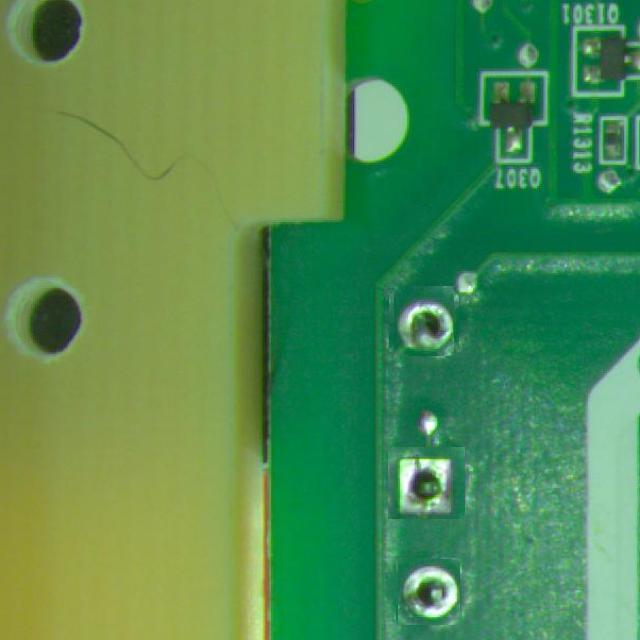lack_of_part: (388, 446, 466, 519), (391, 289, 457, 354), (397, 560, 461, 625)
